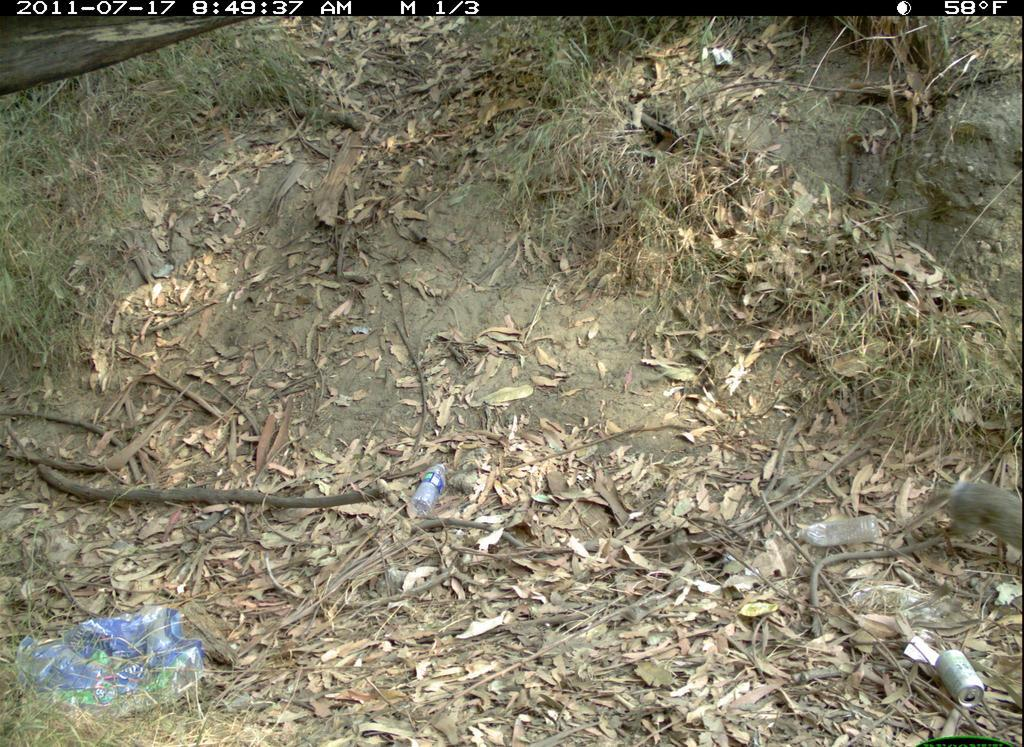rabbit: (897, 477, 1023, 574)
